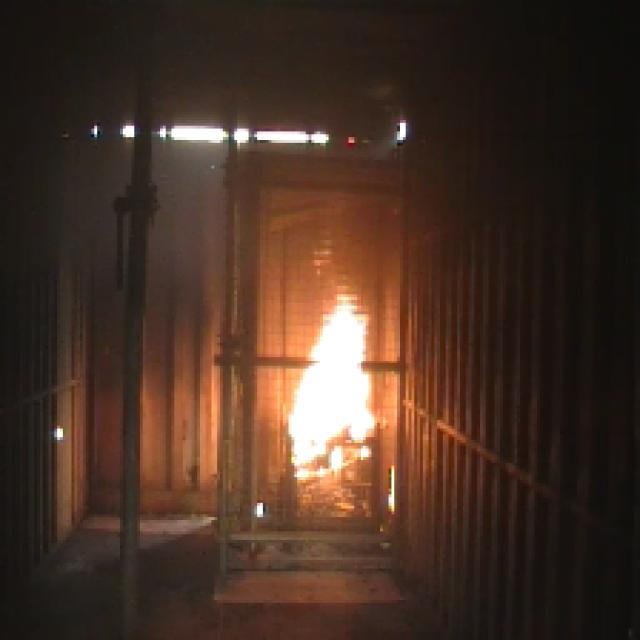fire: (286, 272, 382, 466)
